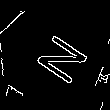N_NW: (21, 23, 86, 85)
